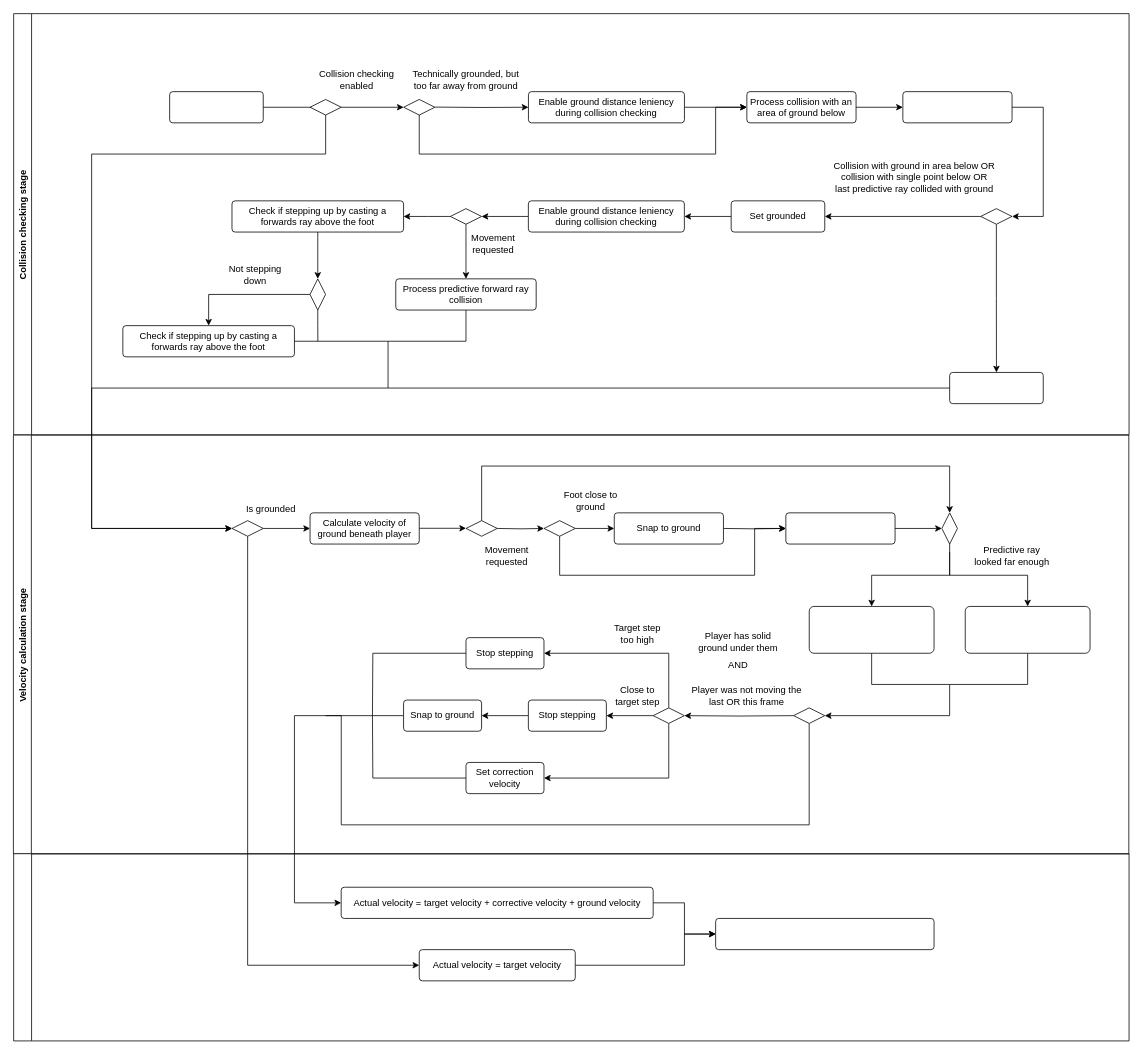
Image size: 1143x1055. Some labels were removed from this diagram. The centre of each missing label's shape, as x and y in pixels:
"Calculate line to predictive ray position" goes at [840,528].
"Container" goes at [571,947].
"Godot.CharacterBody3D.move_and_slide()" goes at [824,934].
"Process collision with point directly below" goes at [957,107].
"Rotate target velocity onto ground plane directly beneath the character" goes at [871,629].
"Rotate target velocity onto plane produced by predictive ray line" goes at [1027,629].
"Set not grounded" goes at [996,388].
"Update (Tick)" goes at [216,107].
